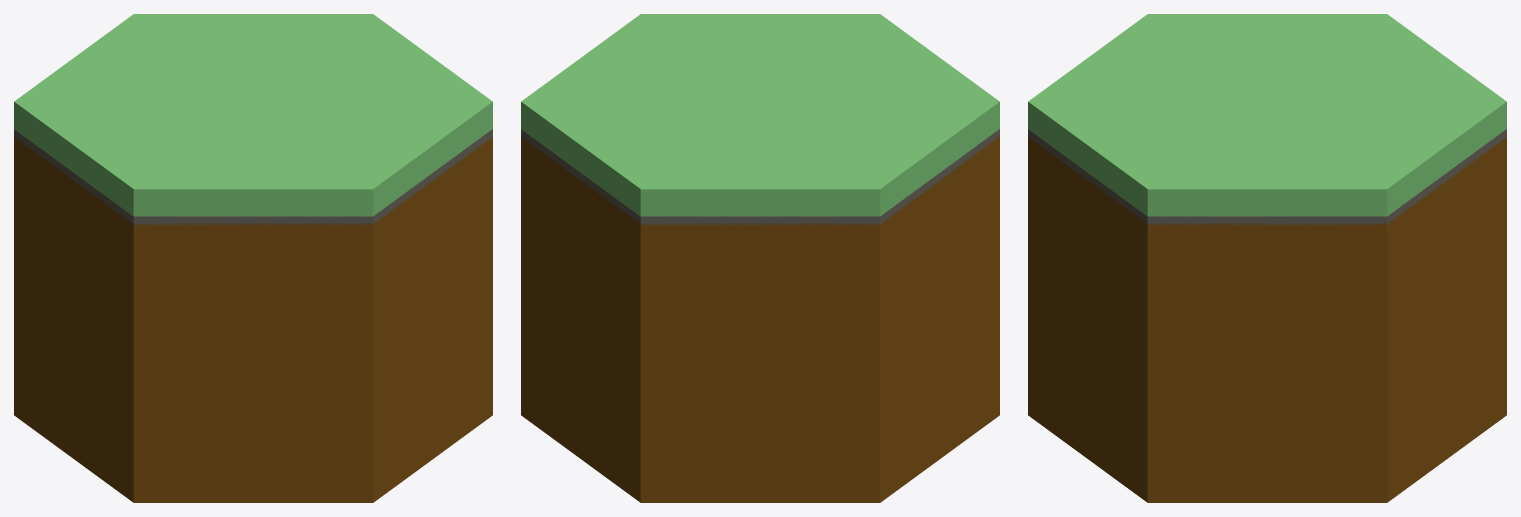
Rendered from grass tile.fbx.
3 renders of one model, left to right at view 1: azimuth 30°, elevation 25°; view 2: azimuth 150°, elevation 25°; view 3: azimuth 270°, elevation 25°, orthographic.
Visible parts, largest first — view 1: tile.003, tile.001, tile.002; view 2: tile.003, tile.001, tile.002; view 3: tile.003, tile.001, tile.002.
Part boxes in pixels (x1,y1,x2,y2): tile.003: [14, 137, 492, 502]; tile.001: [14, 14, 492, 216]; tile.002: [14, 129, 492, 224]; tile.003: [521, 135, 999, 502]; tile.001: [521, 14, 999, 216]; tile.002: [521, 129, 999, 224]; tile.003: [1028, 136, 1506, 502]; tile.001: [1028, 14, 1506, 216]; tile.002: [1028, 129, 1506, 224].
Size of the model in its own units: 173 by 145 by 200.
